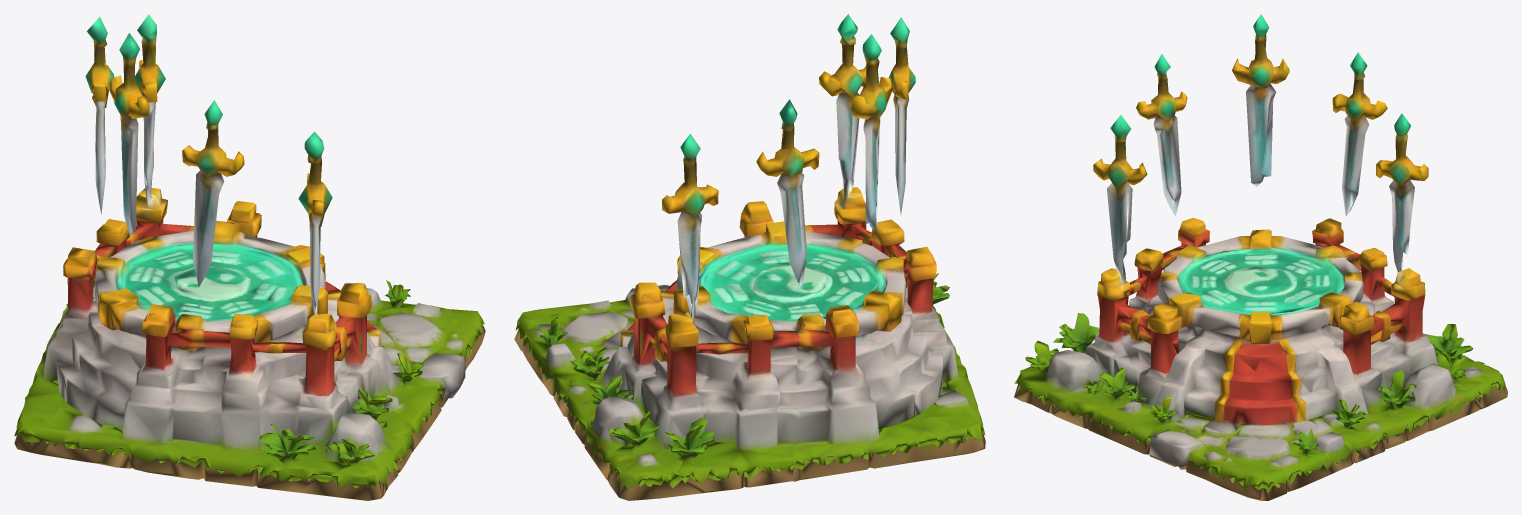
File: cn_aoe.glb
3 renders of one model, left to right at view 1: azimuth 30°, elevation 25°; view 2: azimuth 150°, elevation 25°; view 3: azimuth 270°, elevation 25°, orthographic. The views are drawn at different scales.
Parts seen in each view (by area): view 1: tripo_node_f69c3738-0001-4a94-b9cb-2c83ec4c9b7e; view 2: tripo_node_f69c3738-0001-4a94-b9cb-2c83ec4c9b7e; view 3: tripo_node_f69c3738-0001-4a94-b9cb-2c83ec4c9b7e.
Part boxes in pixels (box(x1,y1,x2,y2)): tripo_node_f69c3738-0001-4a94-b9cb-2c83ec4c9b7e: box(14, 14, 485, 500); tripo_node_f69c3738-0001-4a94-b9cb-2c83ec4c9b7e: box(514, 14, 985, 500); tripo_node_f69c3738-0001-4a94-b9cb-2c83ec4c9b7e: box(1014, 14, 1507, 500).
Bounding box in the file's own units: 0.9471 × 0.7527 × 0.9979.
Materials: 1 (1 with a texture image).
